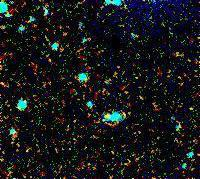star: (94, 101, 124, 131)
